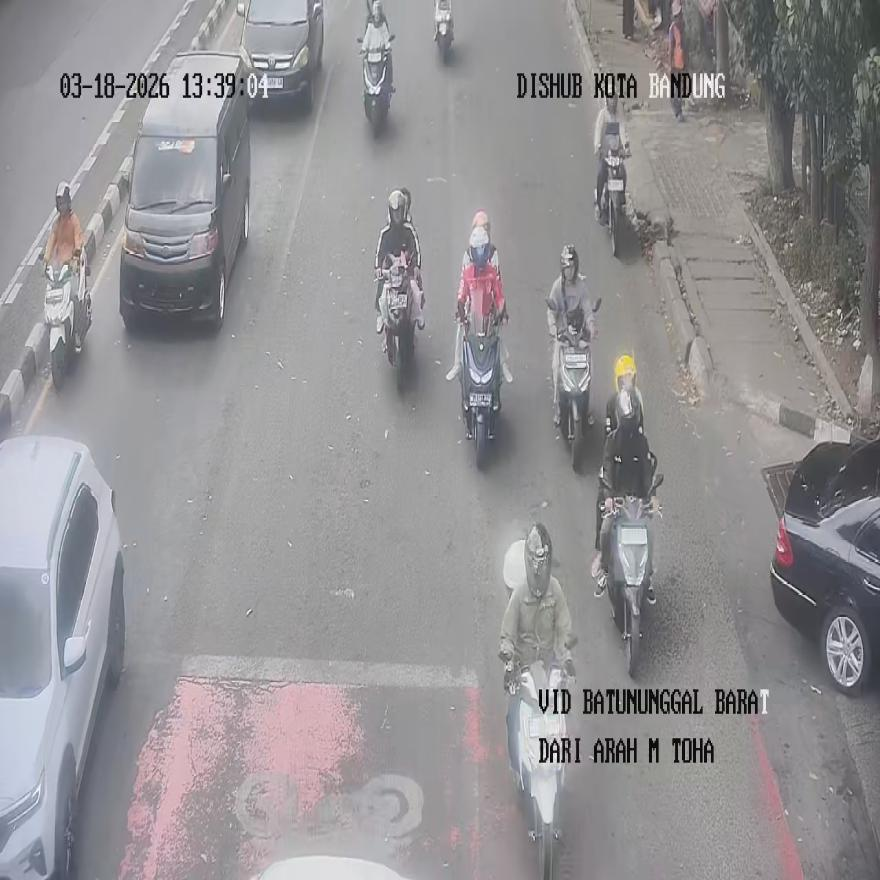Motor: (0, 436, 125, 876), (118, 50, 250, 329), (769, 439, 880, 693), (236, 0, 324, 112)
Truk: (506, 656, 572, 880), (597, 472, 661, 677), (548, 298, 599, 471), (459, 308, 503, 469), (43, 253, 91, 390), (380, 256, 418, 392), (357, 29, 393, 132), (598, 142, 628, 255), (667, 2, 689, 121), (434, 0, 453, 62)
